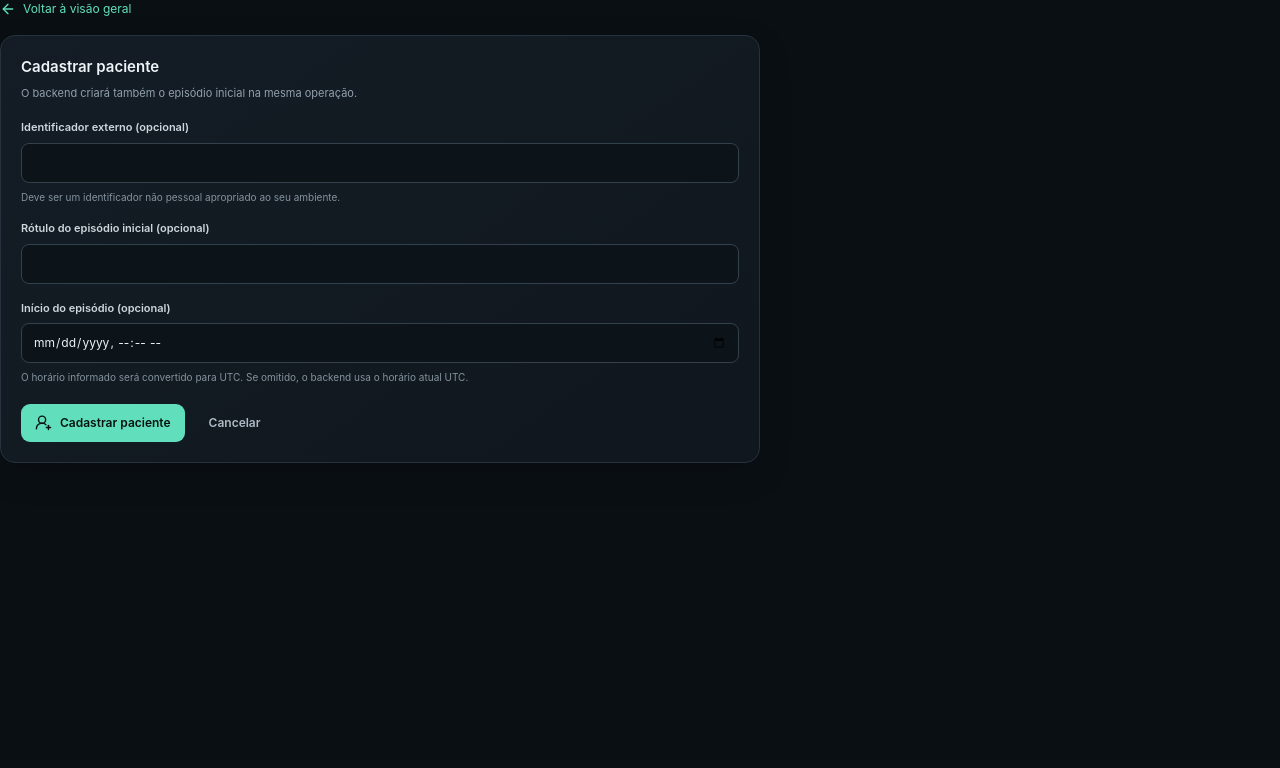
Scenario: fluxos da aplicação › cadastra paciente e abre o episódio inicial retornado pela API
Type "demo-123" into the field labelled "Identificador externo (opcional)" at [380, 162], box [21,142,739,182]
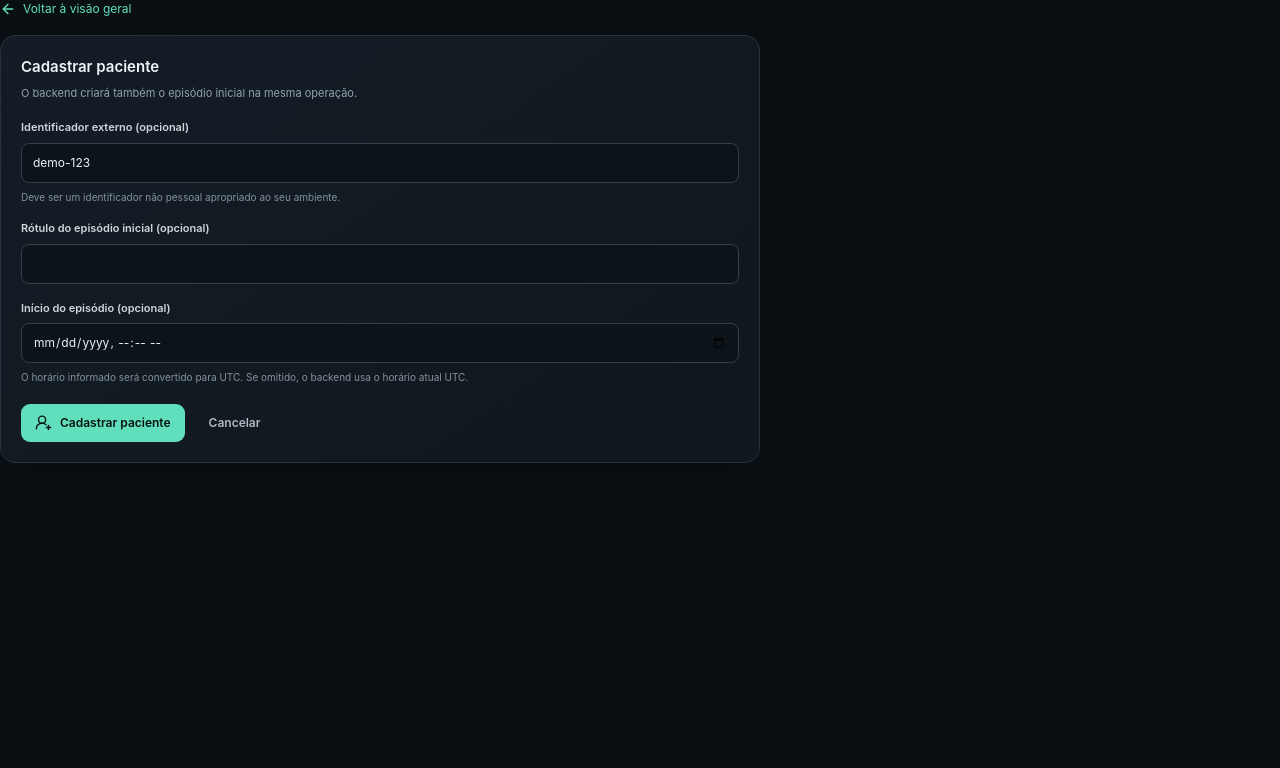
Click the button "Cadastrar paciente" at [103, 422], box [21,404,185,442]
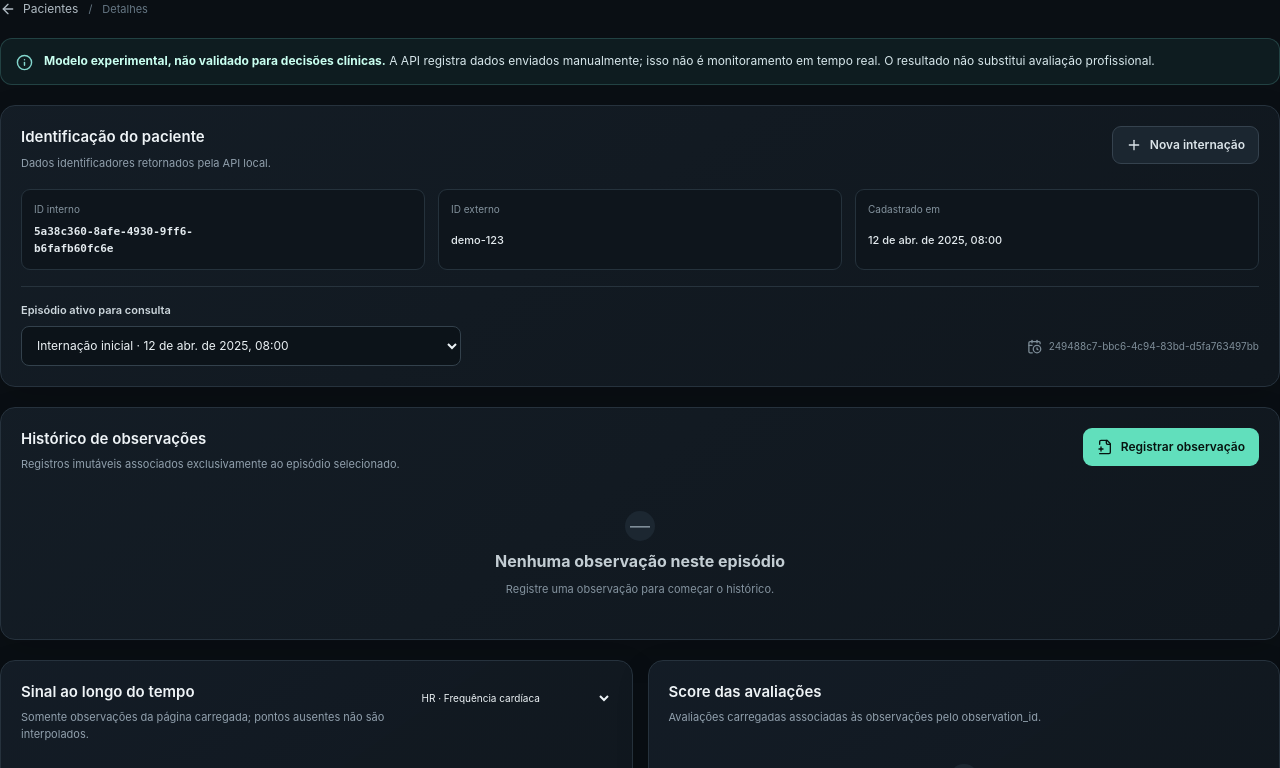
Check: the heading "Identificação do paciente" is shown, box [21,127,205,146]
Check: the dropdown labelled "Episódio ativo para consulta" shows "Internação inicial · 12 de abr. de 2025, 08:00", box [21,326,461,366]
Check: the text "249488c7-bbc6-4c94-83bd-d5fa763497bb" is shown, box [1027,338,1259,354]
